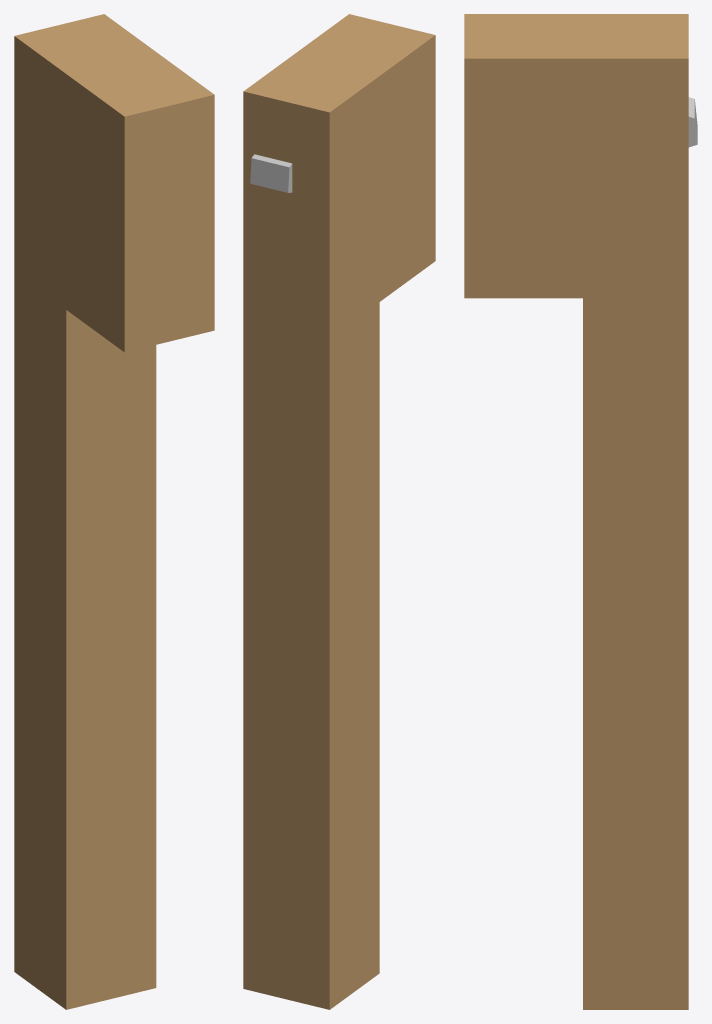
File: Battle Axe(merged).dae
3 views of the same model, side by side, from view 1: azimuth 30°, elevation 25°; view 2: azimuth 150°, elevation 25°; view 3: azimuth 270°, elevation 25° (orthographic). The views are drawn at different scales.
Visible parts, largest first — view 1: Mesh4_Proxy1_Model; view 2: Mesh4_Proxy1_Model, Mesh1_strap_Model; view 3: Mesh4_Proxy1_Model.
Boxes of the visible parts, x1=… form: Mesh4_Proxy1_Model: x1=14, y1=14, x2=214, y2=1009; Mesh4_Proxy1_Model: x1=243, y1=14, x2=435, y2=1009; Mesh1_strap_Model: x1=250, y1=154, x2=292, y2=192; Mesh4_Proxy1_Model: x1=464, y1=14, x2=688, y2=1009.
Bounding box in the file's own units: 0.0689 × 0.1519 × 0.6839.
